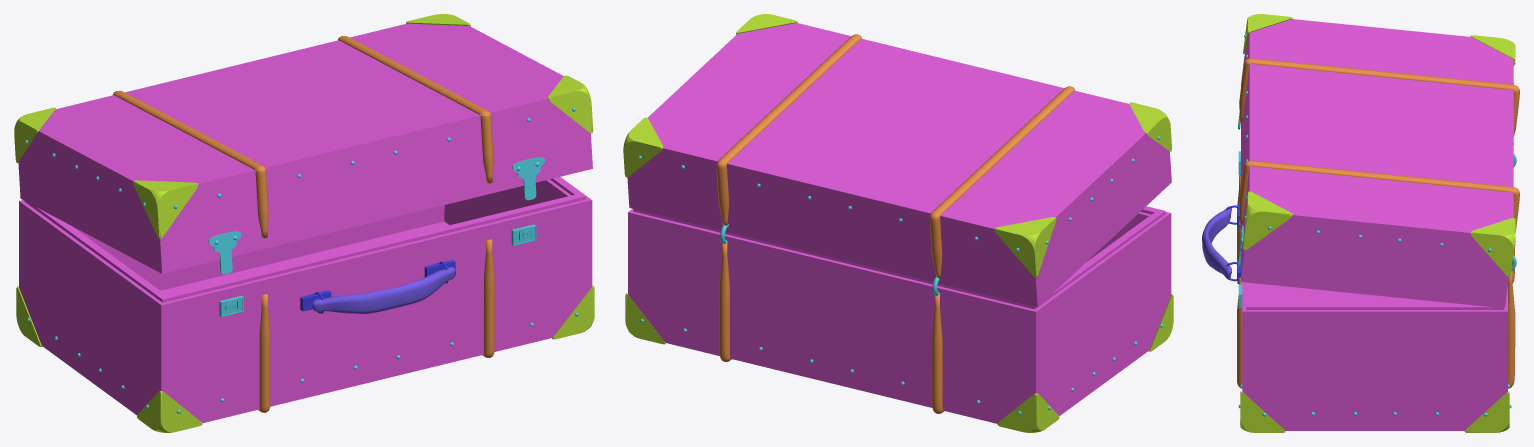
3 renders of one model, left to right at view 1: azimuth 30°, elevation 25°; view 2: azimuth 150°, elevation 25°; view 3: azimuth 270°, elevation 25°, orthographic. The views are drawn at different scales.
Parts seen in each view (by area): view 1: закрывашка; view 2: закрывашка; view 3: закрывашка.
Part boxes in pixels (bbox=[...]): закрывашка: bbox=[14, 14, 594, 432]; закрывашка: bbox=[623, 14, 1173, 432]; закрывашка: bbox=[1202, 14, 1519, 432].
Size of the model in its own units: 709 by 378 by 479.
